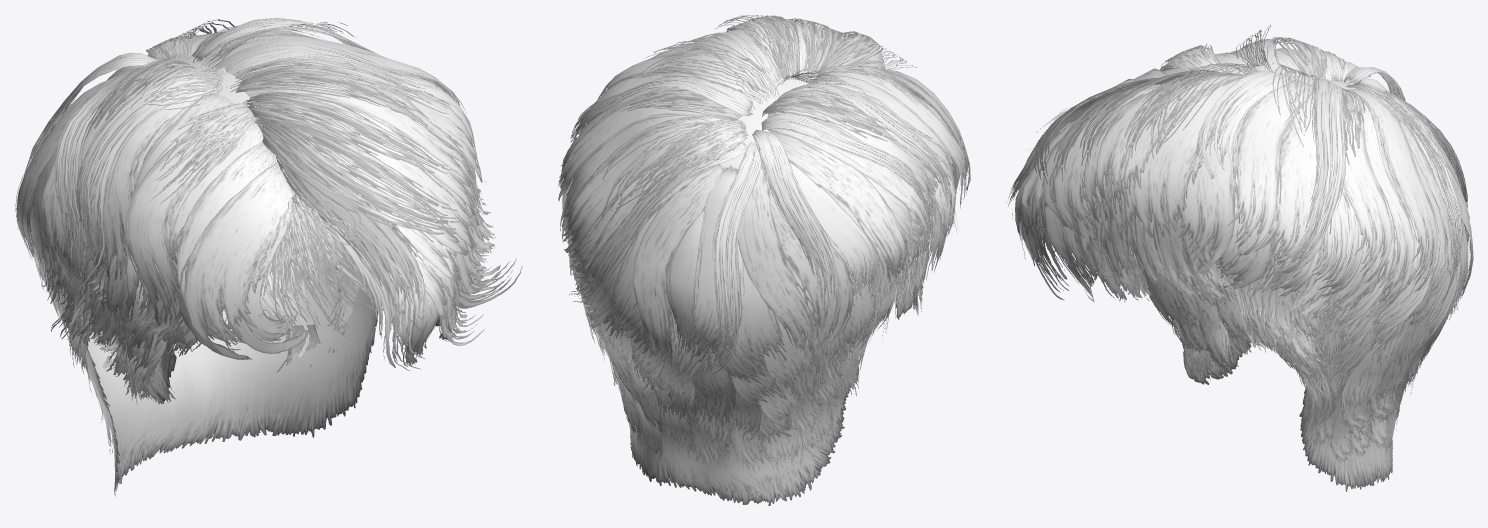
File: hair_1090.glb
3 renders of one model, left to right at view 1: azimuth 30°, elevation 25°; view 2: azimuth 150°, elevation 25°; view 3: azimuth 270°, elevation 25°, orthographic. The views are drawn at different scales.
Visible parts, largest first — view 1: hair_cards, hair_cap; view 2: hair_cards, hair_cap; view 3: hair_cards, hair_cap.
Part boxes in pixels (x1,y1,x2,y2): hair_cards: [15, 18, 522, 456]; hair_cap: [85, 51, 451, 496]; hair_cards: [558, 15, 970, 475]; hair_cap: [630, 70, 914, 505]; hair_cards: [1006, 25, 1473, 463]; hair_cap: [1178, 70, 1415, 491].
Bounding box in the file's own units: 0.2198 × 0.2371 × 0.2441.
Materials: 2 (2 with a texture image).
